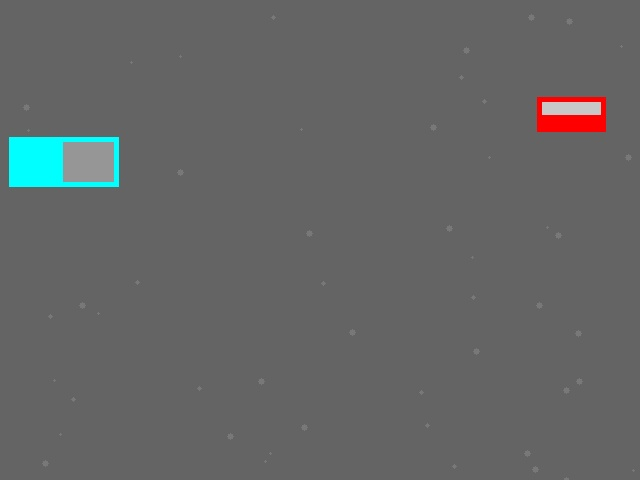car: (537, 97, 605, 131)
truck: (9, 137, 118, 186)
